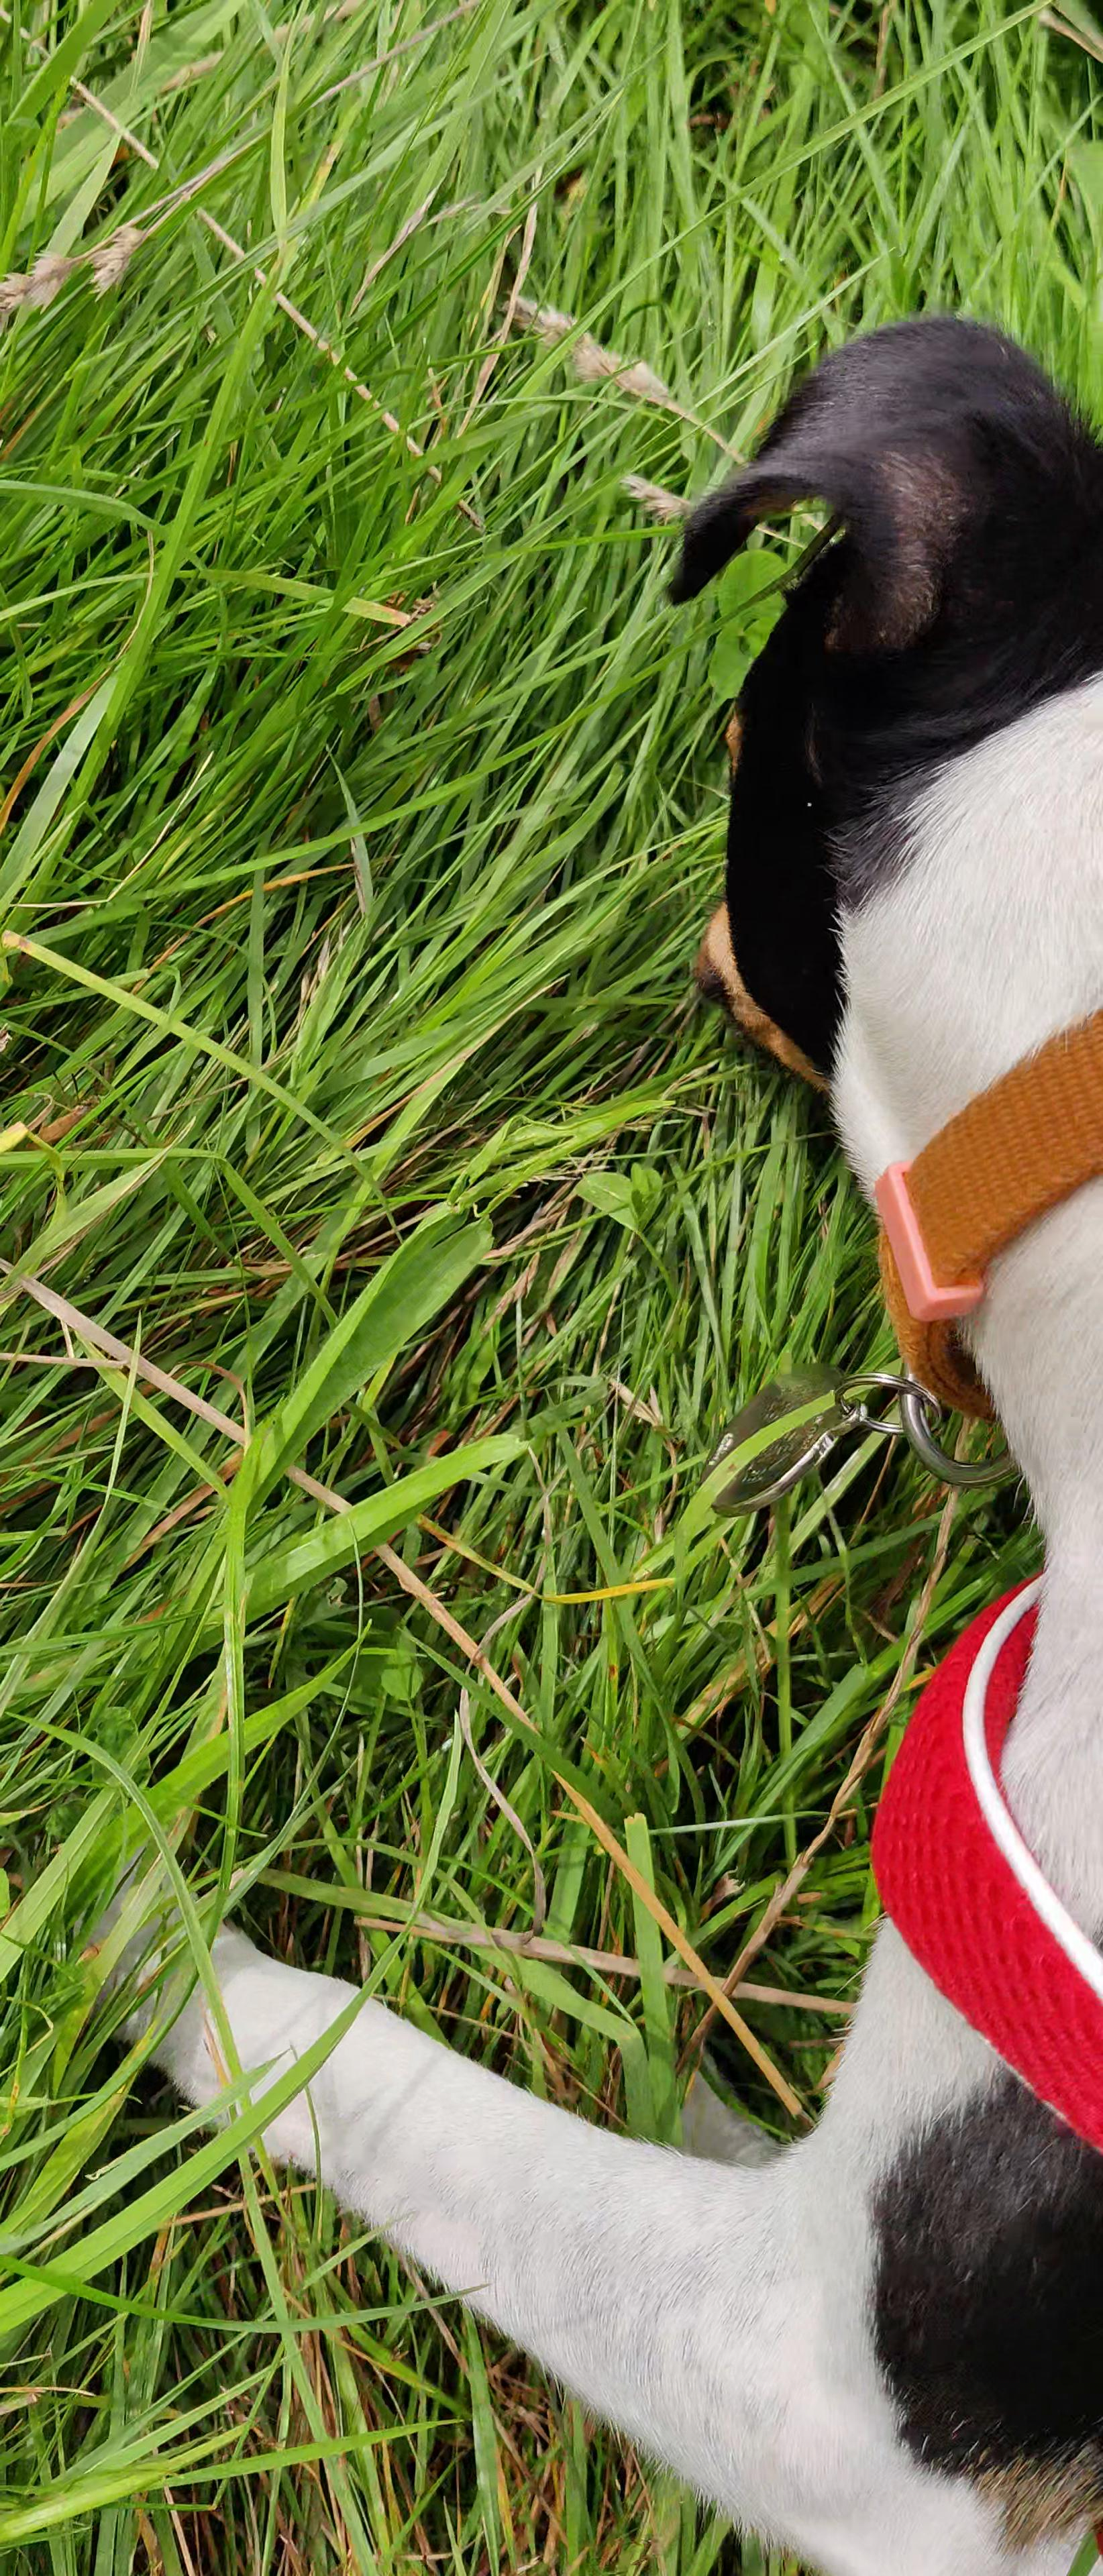Dog: (67, 260, 1103, 2576)
